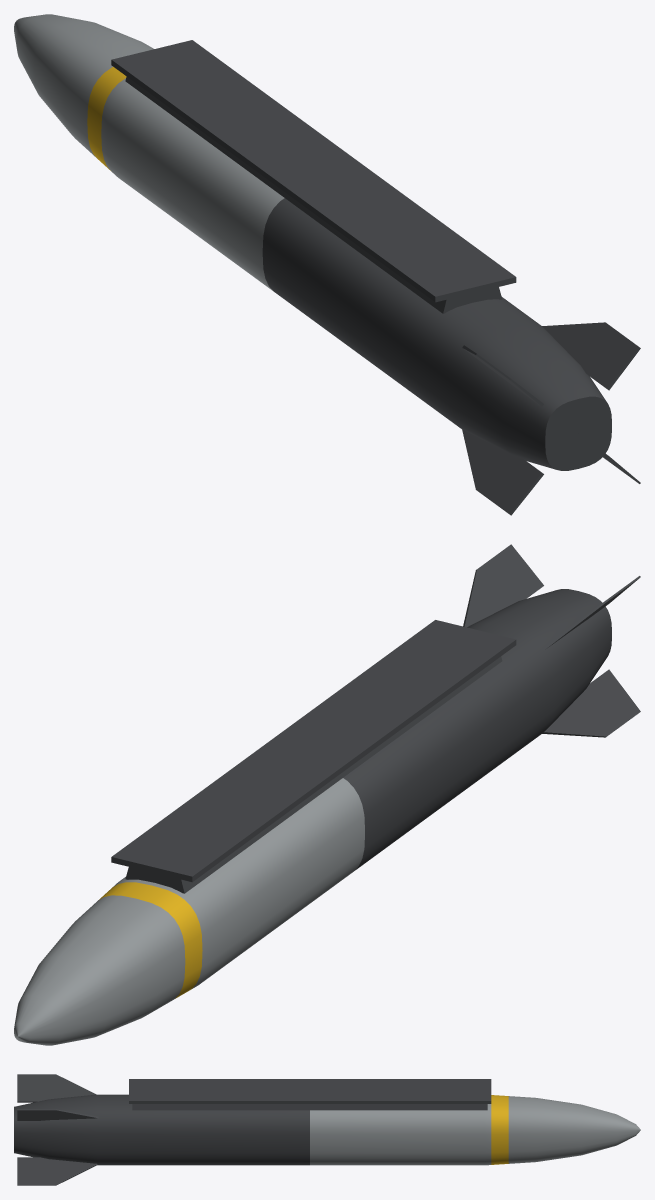
File: gbu39.glb
3 renders of one model, top to bottom at view 1: azimuth 30°, elevation 25°; view 2: azimuth 150°, elevation 25°; view 3: azimuth 270°, elevation 25°, orthographic. The views are drawn at different scales.
Parts seen in each view (by area): view 1: gbu39_body; view 2: gbu39_body; view 3: gbu39_body.
Boxes of the visible parts, left/top/right/bottom form: gbu39_body: left=14, top=14, right=640, bottom=515; gbu39_body: left=14, top=544, right=640, bottom=1045; gbu39_body: left=14, top=1074, right=640, bottom=1185.
Size of the model in its own units: 0.2461 by 0.252 by 1.83.
Materials: 3 (3 with a texture image).
